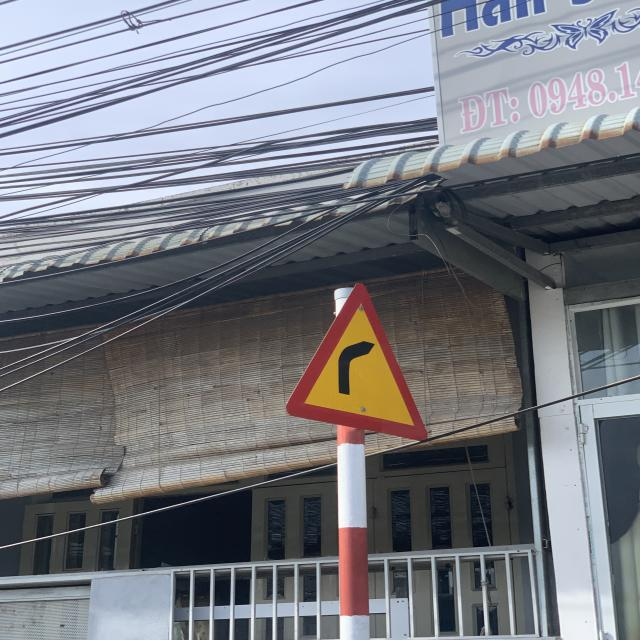Duong_Nguoi_Di_Bo_Cat_Ngang: (285, 284, 431, 442)
